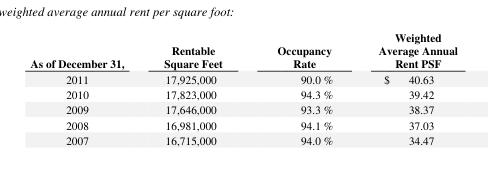table: (29, 29, 457, 146)
table column: (29, 29, 143, 146), (143, 29, 249, 146), (249, 29, 354, 146), (354, 29, 457, 146)
table column header: (29, 29, 457, 71)
table row: (29, 29, 457, 71), (29, 71, 457, 86), (29, 86, 457, 101), (29, 101, 457, 116), (29, 116, 457, 131), (29, 131, 457, 146)
